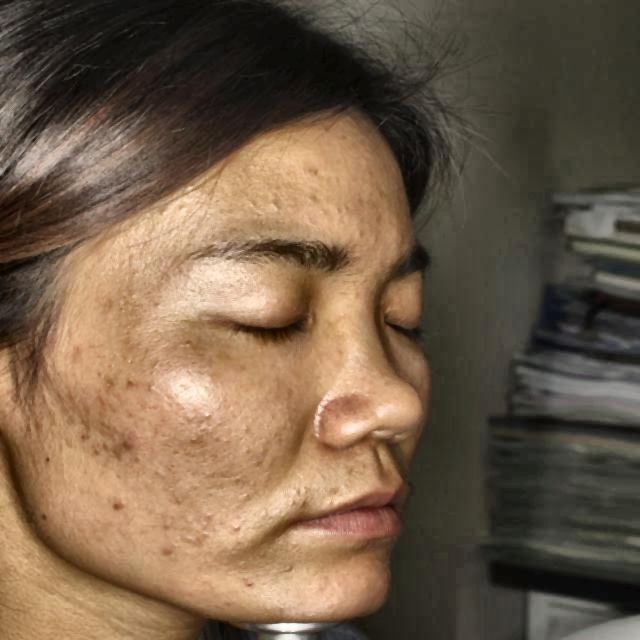comedone: (109, 433, 139, 468), (84, 434, 100, 461), (112, 498, 134, 516)
